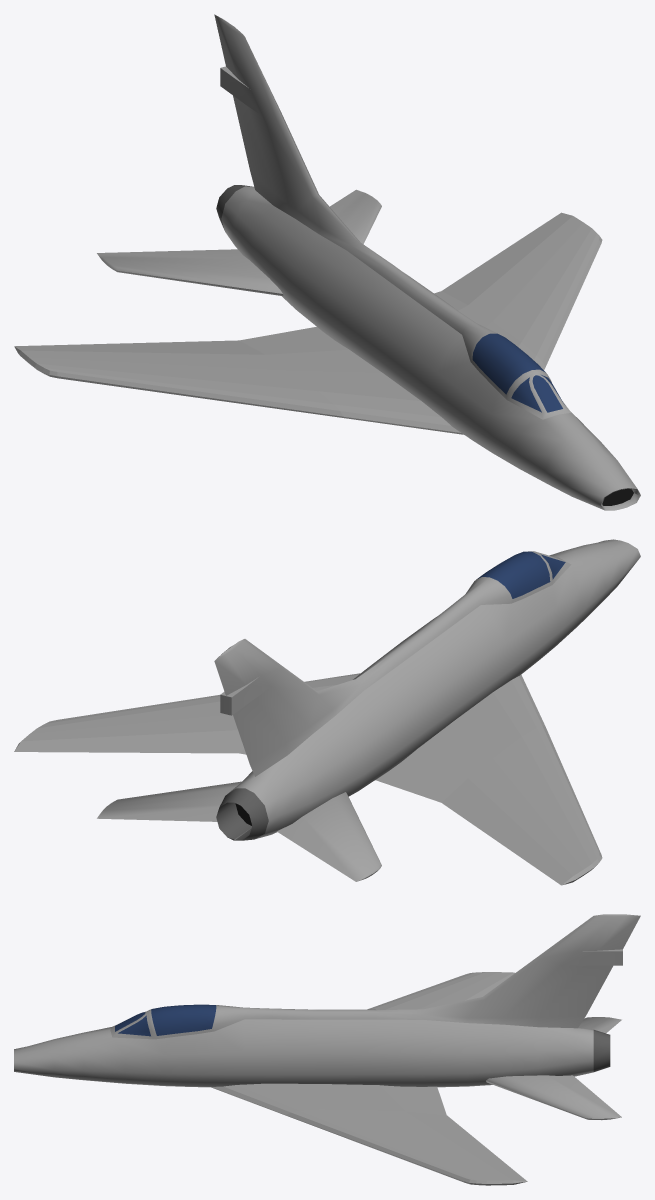
The model's file is F100_SUPER_SABER.glb.
The picture shows the model from 3 angles, top to bottom: view 1: azimuth 30°, elevation 25°; view 2: azimuth 150°, elevation 25°; view 3: azimuth 270°, elevation 25°; orthographic projection. The views are drawn at different scales.
Parts seen in each view (by area): view 1: f100_super_saber; view 2: f100_super_saber; view 3: f100_super_saber.
Boxes of the visible parts, x1=… form: f100_super_saber: x1=14, y1=14, x2=640, y2=510; f100_super_saber: x1=14, y1=539, x2=640, y2=885; f100_super_saber: x1=14, y1=914, x2=640, y2=1185.
Bounding box in the file's own units: 11.29 × 4.21 × 14.2.
